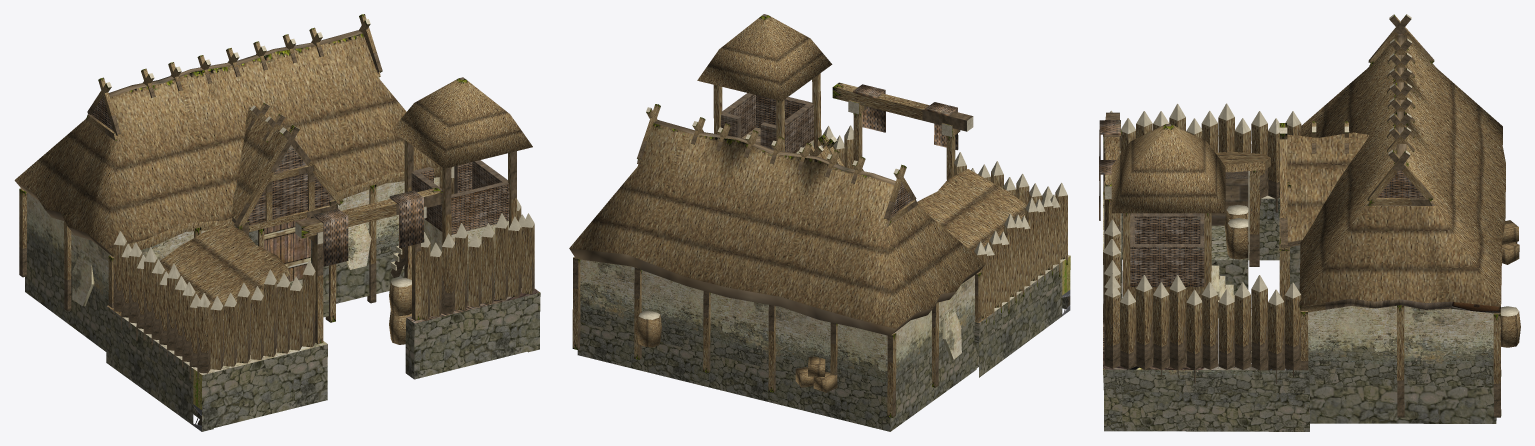
File: barracks.dae
The picture shows the model from 3 angles, left to right: view 1: azimuth 30°, elevation 25°; view 2: azimuth 150°, elevation 25°; view 3: azimuth 270°, elevation 25°; orthographic projection. The views are drawn at different scales.
Parts seen in each view (by area): view 1: barracks; view 2: barracks; view 3: barracks.
Boxes of the visible parts, bbox=[...] form: barracks: bbox=[14, 14, 540, 431]; barracks: bbox=[569, 14, 1070, 431]; barracks: bbox=[1099, 14, 1520, 431].
Size of the model in its own units: 23.36 by 22.61 by 16.92.
